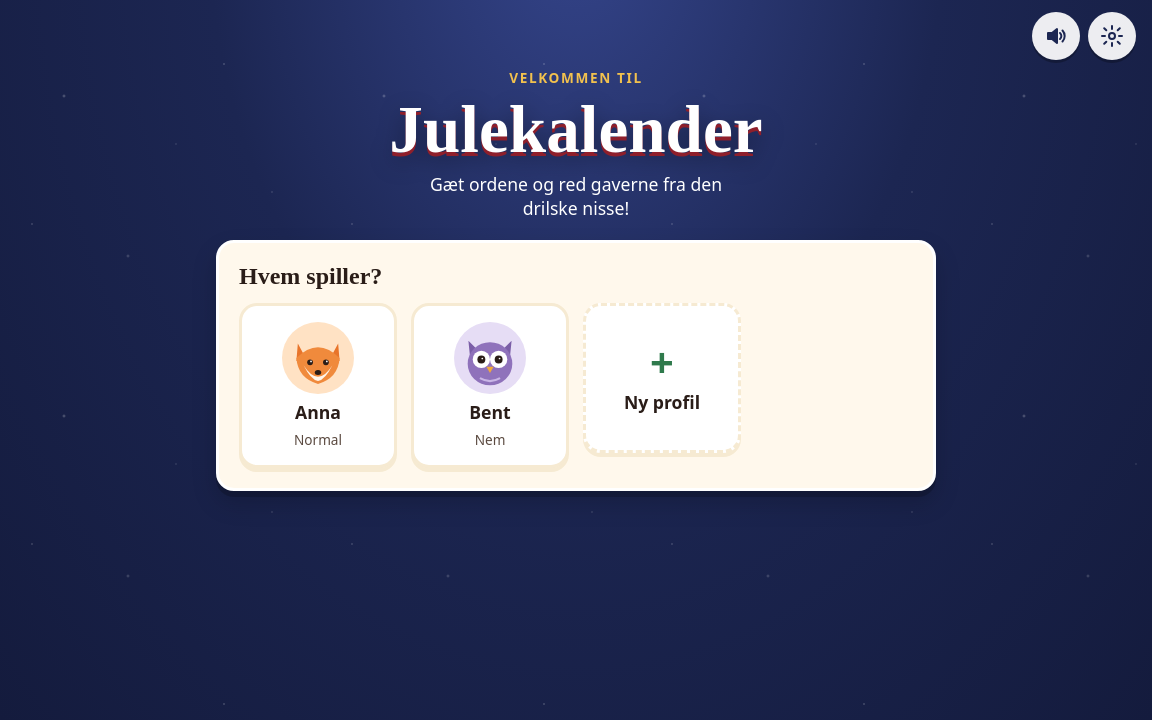
it: app-flow › profilskift viser kun den valgte profils data
Click the button "Anna Normal". click: (318, 385)
box: x1=239 y1=303 x2=397 y2=468
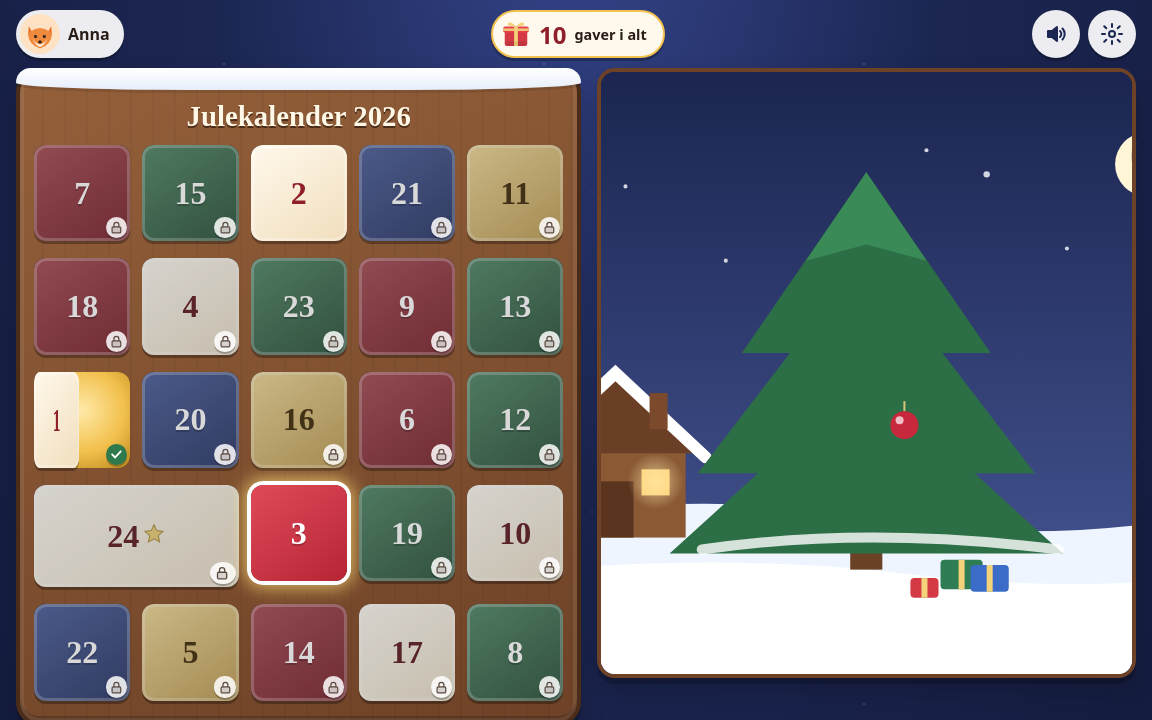
Now the message "10 gaver i alt" is shown, box x1=491 y1=10 x2=665 y2=58
Click the button with aria-label "Skift profil". click: (70, 34)
box: x1=16 y1=10 x2=124 y2=58
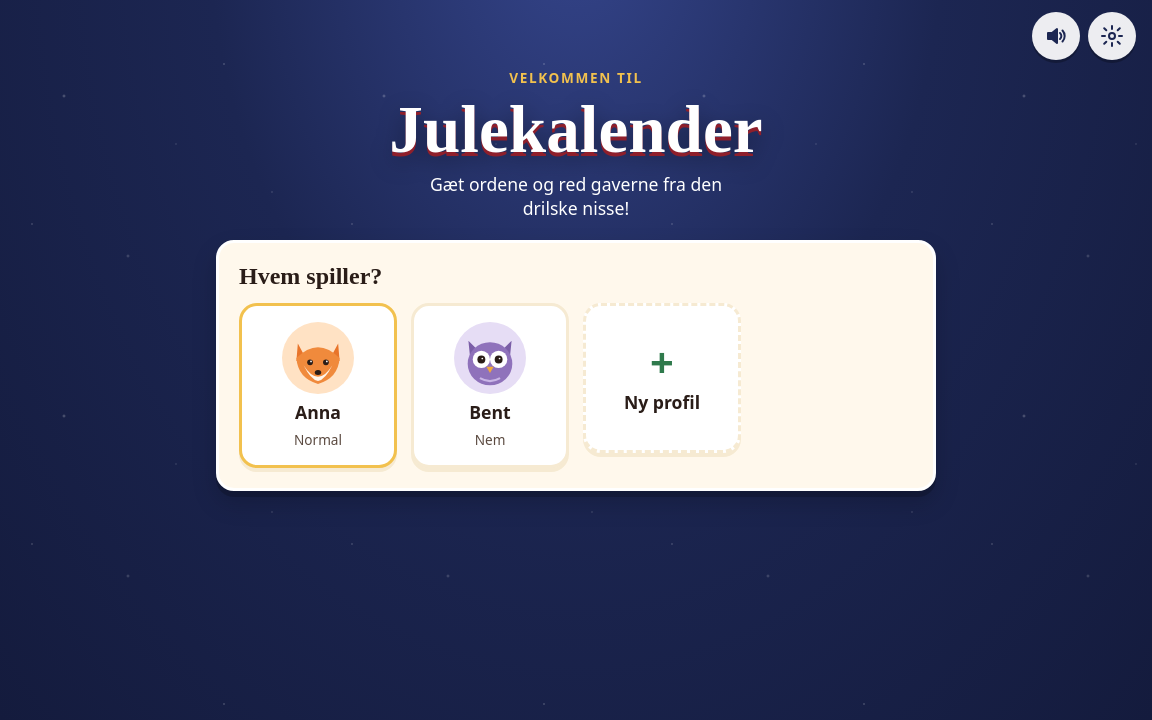
Click the button "Bent Nem". click: (490, 385)
box: x1=411 y1=303 x2=569 y2=468
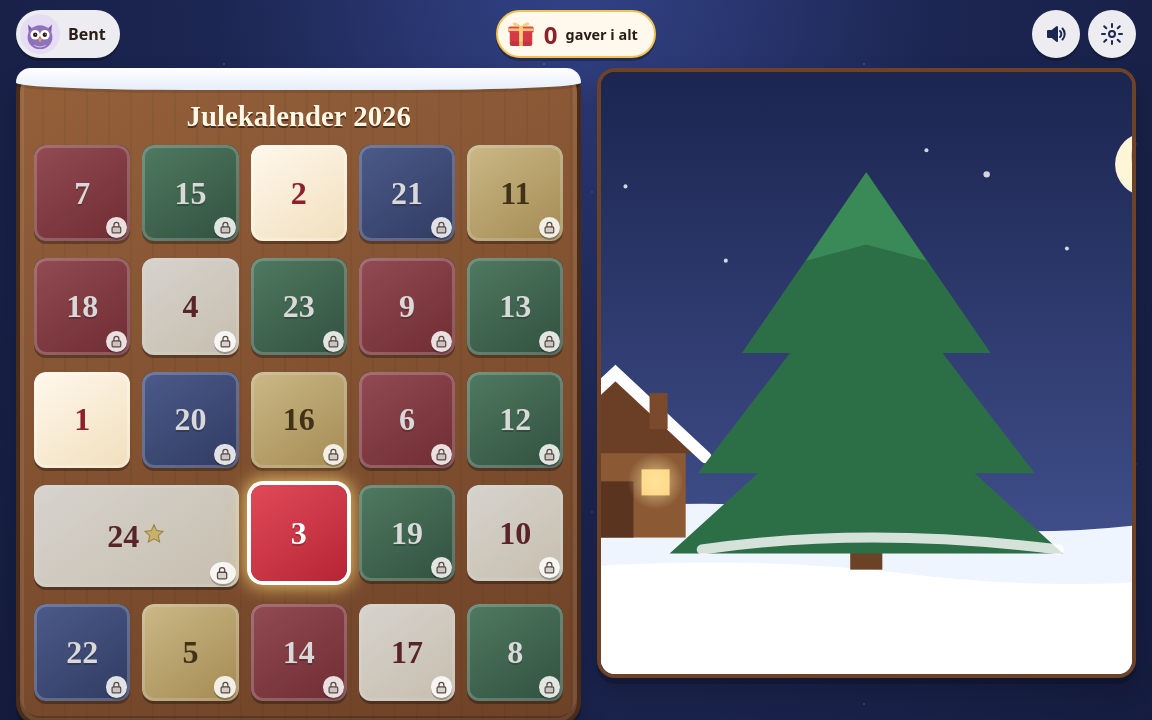
Now the message "0 gaver i alt" is shown, box x1=496 y1=10 x2=656 y2=58
Now the button named "Låge 1: klar" is shown, box x1=34 y1=372 x2=130 y2=468
